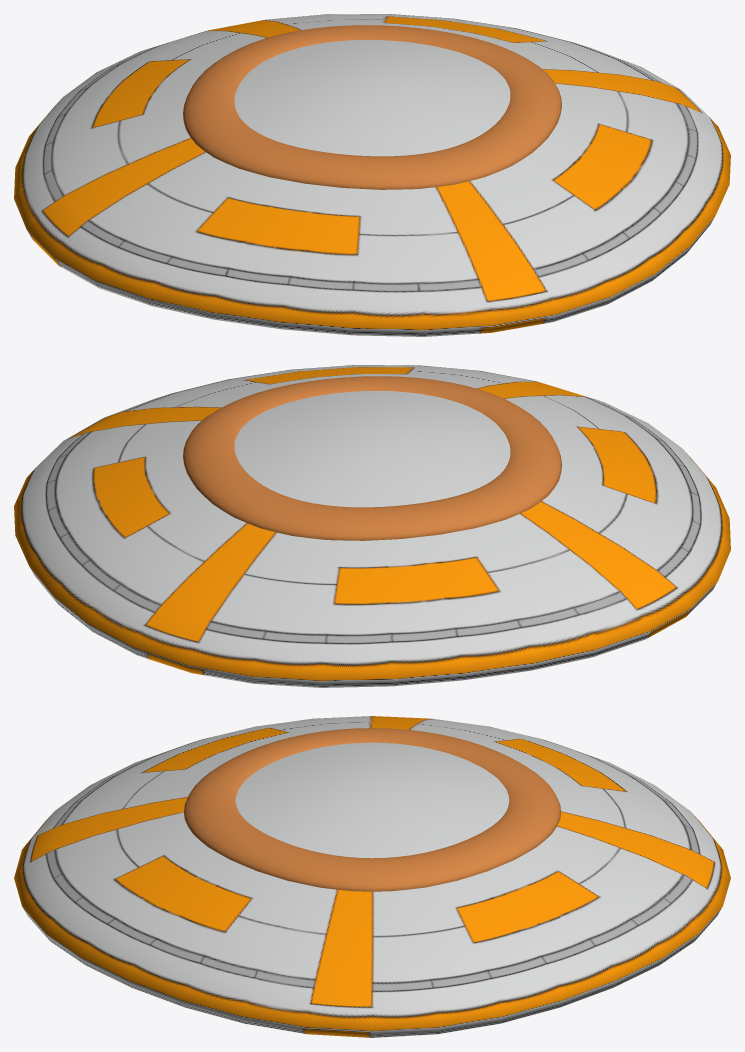
Rendered from ufo.fbx.
The picture shows the model from 3 angles, top to bottom: view 1: azimuth 30°, elevation 25°; view 2: azimuth 150°, elevation 25°; view 3: azimuth 270°, elevation 25°; orthographic projection. The views are drawn at different scales.
Visible parts, largest first — view 1: ufo; view 2: ufo; view 3: ufo.
Part boxes in pixels (x1,y1,x2,y2): ufo: [14, 14, 730, 336]; ufo: [14, 365, 730, 687]; ufo: [14, 716, 730, 1037].
Size of the model in its own units: 169 by 39.28 by 169.
3 materials, 1 textured.
